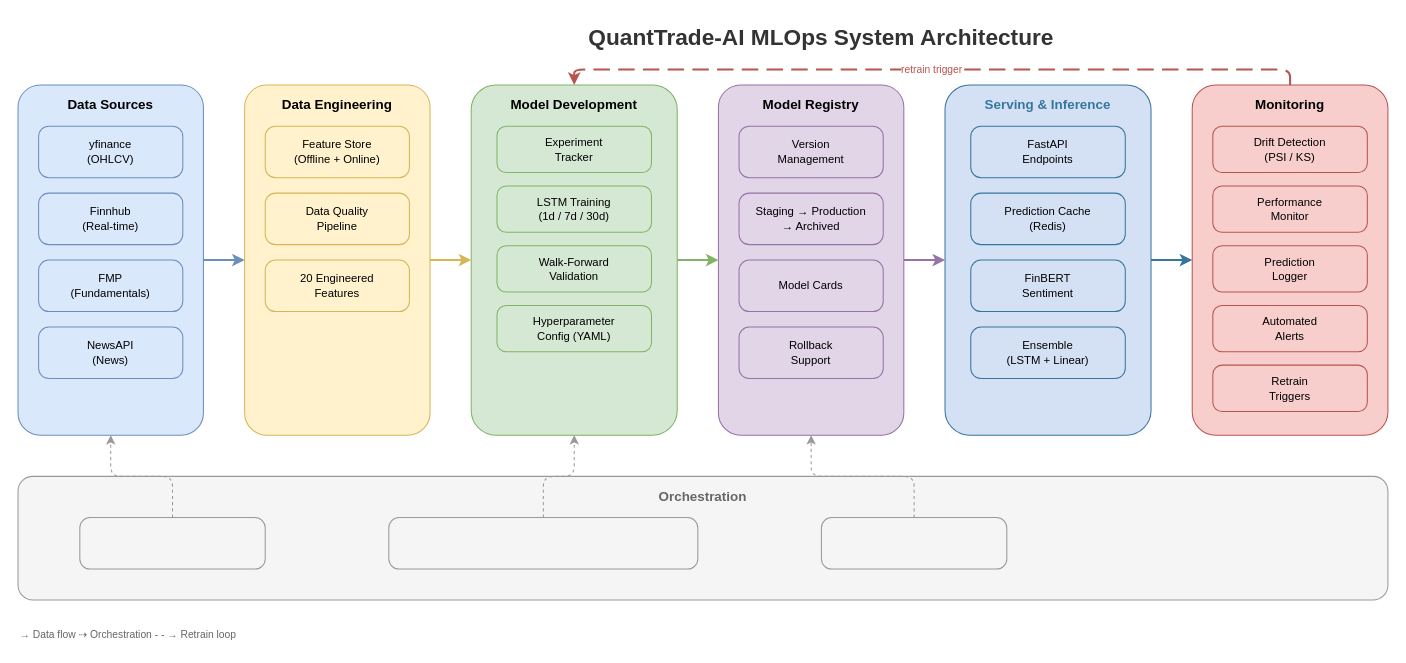
This 1406x663 diagram has some shape labels left out. Here are the shapes that lost their labels. From the top down, the centre of each, then its label:
At pixel 172 543: "Celery Beat Schedule".
At pixel 543 543: "ML Pipeline (5 Stages) Fetch → Features → Validate → Train → Deploy".
At pixel 913 543: "GitHub Actions (Nightly Train)".
